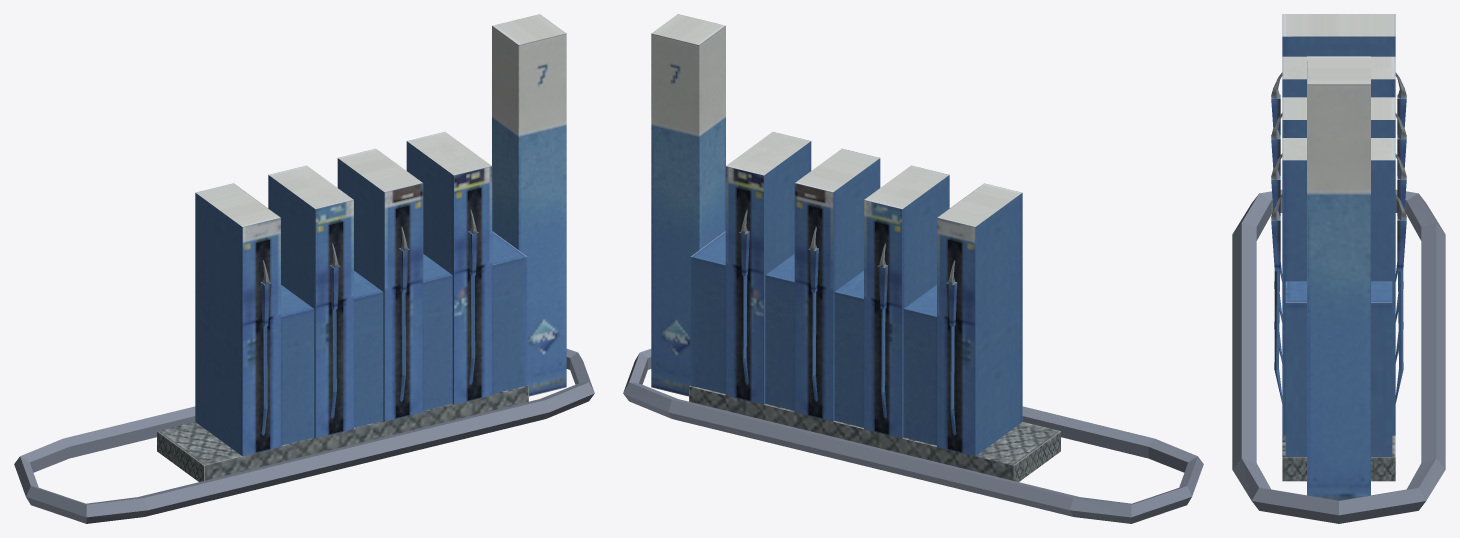
The model's file is GasPump01.obj.
The picture shows the model from 3 angles, left to right: view 1: azimuth 30°, elevation 25°; view 2: azimuth 150°, elevation 25°; view 3: azimuth 270°, elevation 25°; orthographic projection. The views are drawn at different scales.
Parts seen in each view (by area): view 1: Pumps01.Base, Pumps01.Hose; view 2: Pumps01.Base, Pumps01.Hose; view 3: Pumps01.Base, Pumps01.Hose.
Part boxes in pixels (box(x1,y1,x2,y2)): Pumps01.Base: box(14, 14, 594, 523); Pumps01.Hose: box(260, 209, 478, 435); Pumps01.Base: box(623, 14, 1203, 523); Pumps01.Hose: box(739, 209, 957, 435); Pumps01.Base: box(1232, 14, 1445, 523); Pumps01.Hose: box(1271, 72, 1406, 403).
Bounding box in the file's own units: 7.25 × 4.4 × 2.
